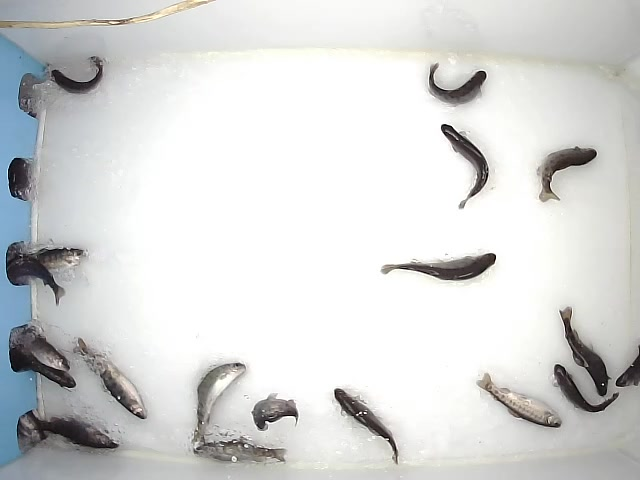fish: (72, 333, 149, 421), (331, 387, 401, 465), (555, 306, 611, 397), (474, 372, 563, 429), (438, 122, 491, 211), (192, 361, 245, 448), (535, 144, 597, 203), (380, 251, 497, 282), (553, 362, 622, 414), (30, 414, 120, 450), (426, 61, 487, 108), (13, 323, 69, 374), (193, 439, 288, 464), (50, 53, 105, 96), (19, 350, 79, 389), (250, 392, 299, 432), (16, 246, 87, 271)
